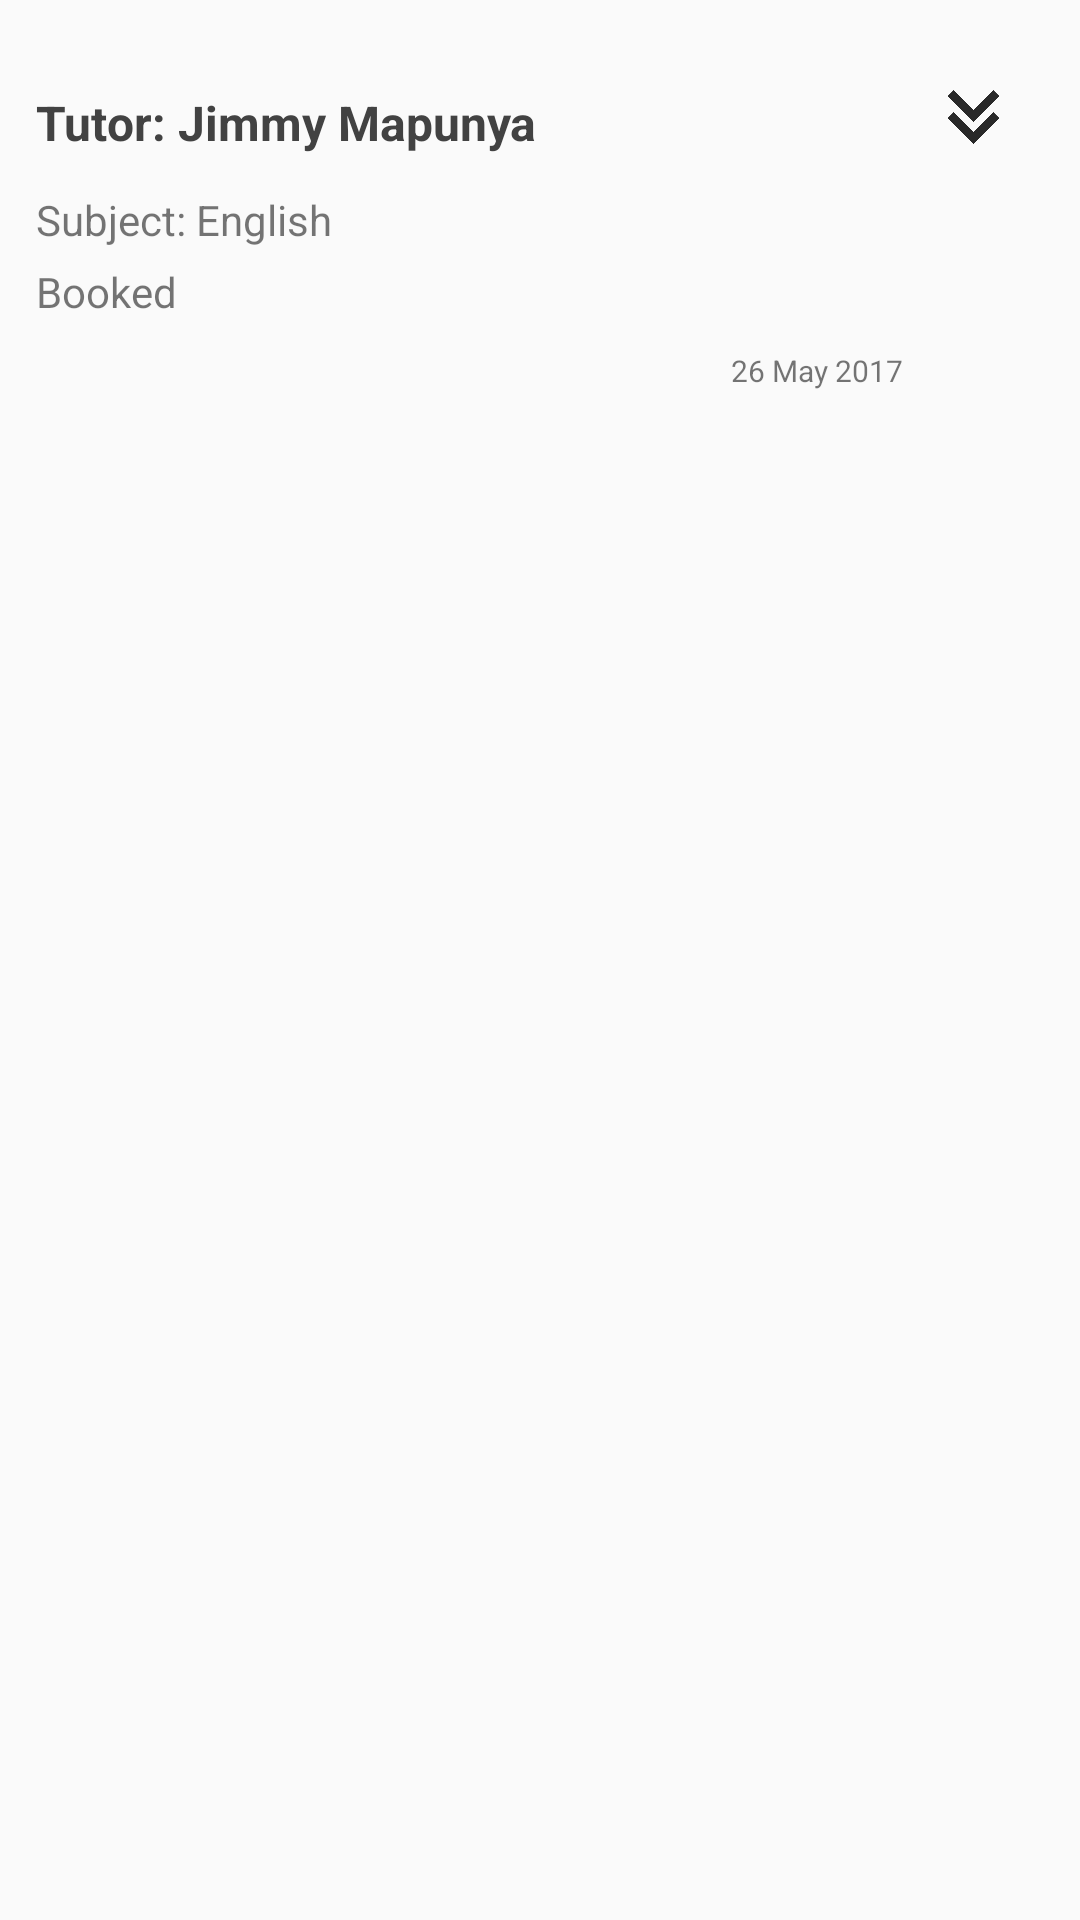

Named icons in this screenshot (1080x1920) and their bounding boxes, [left=x1, top=y1, right=x2, bottom=y2]:
expand: [left=948, top=90, right=999, bottom=144]
